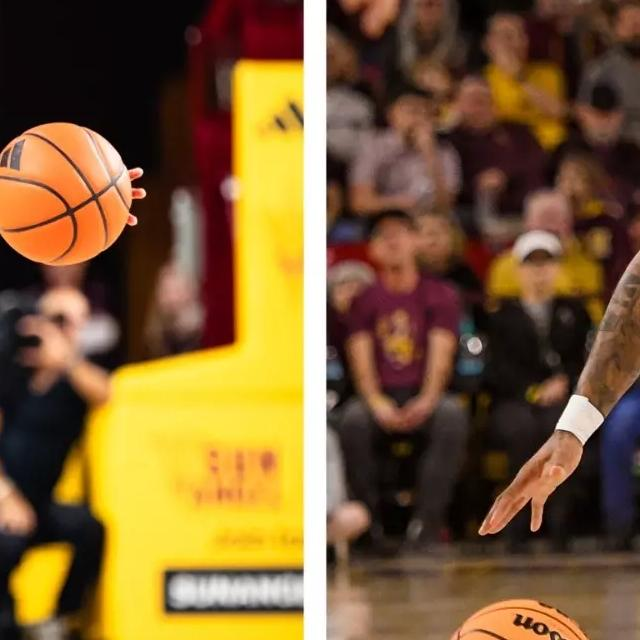basketball: (0, 118, 131, 265), (435, 595, 608, 640)
